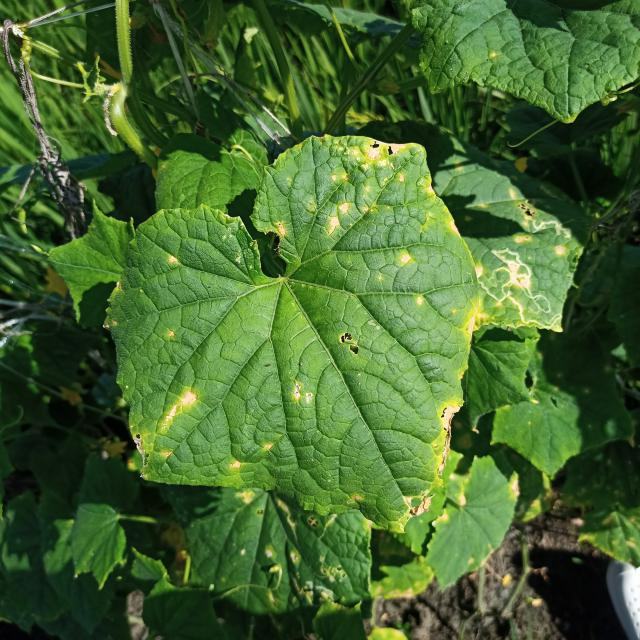disease_cucumber: (309, 140, 426, 236), (426, 394, 464, 476), (152, 386, 198, 434), (285, 382, 317, 406), (162, 248, 181, 274), (223, 455, 244, 475), (395, 252, 414, 269), (259, 441, 276, 455), (414, 294, 423, 309)
